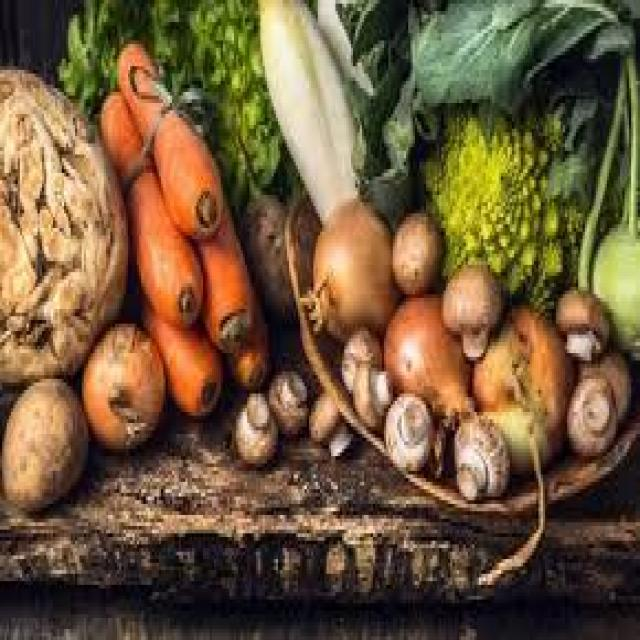food_waste: (6, 0, 640, 499)
